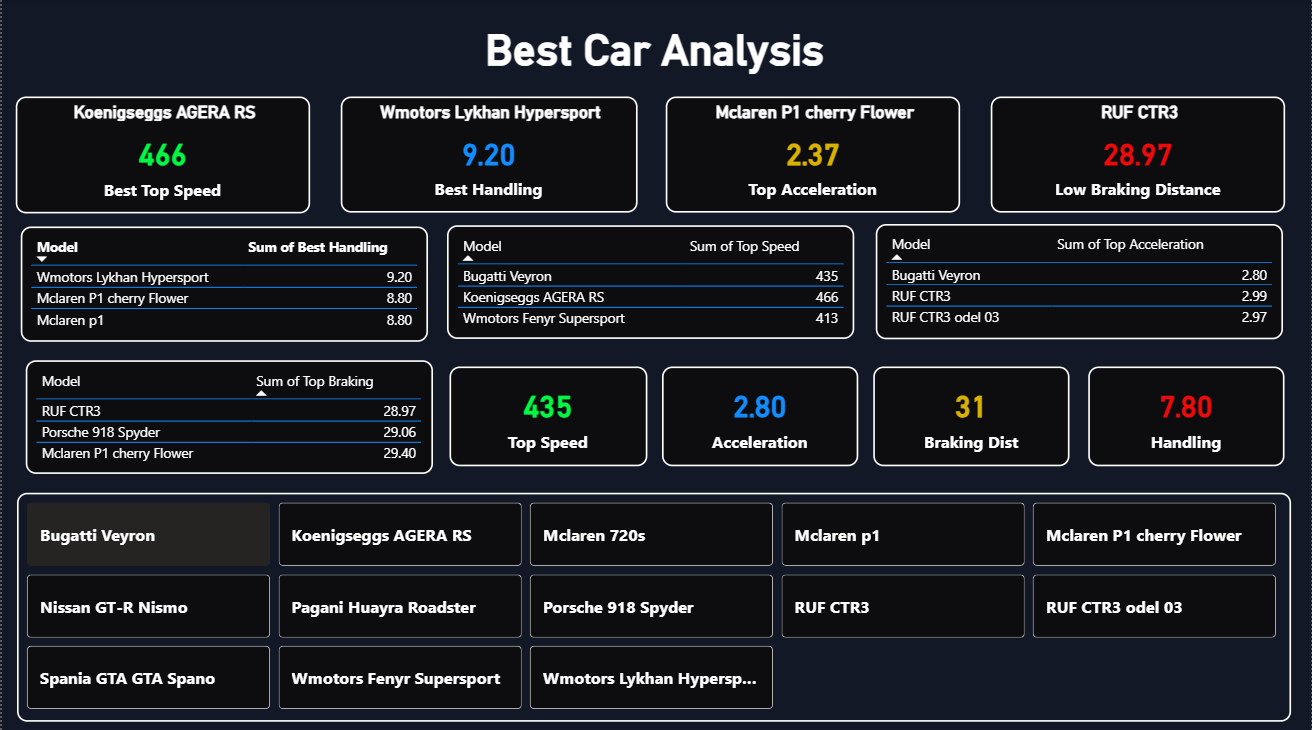

The dashboard page shown, as its layout file describes it:
{"tool":"powerbi","page":{"name":"Page 1","canvas":[1280,720],"ordinal":0},"visuals":[{"type":"card","fields":{"Values":["Dax.Title"]},"box":[22,13.8,1233.5,64.6],"z":0},{"type":"group","id":"g1","title":"Group 1","box":[13.6,95.4,1241.8,112.8],"z":0,"group":"g2"},{"type":"card","title":"Koenigseggs AGERA RS","fields":{"Values":["Dax.Top Speed"]},"box":[13.6,95.4,287.9,114.1],"z":0,"group":"g1"},{"type":"group","id":"g2","title":"Group 2","box":[13.6,95.4,1241.8,368.8],"z":1000},{"type":"card","title":"Mclaren P1 cherry Flower","fields":{"Values":["Dax.Top Acceleration"]},"box":[649.7,95.8,288.4,113.4],"z":1000,"group":"g1"},{"type":"tableEx","fields":{"Values":["Top Handling Car List.Model","Sum(Top Handling Car List.Best Handling)"]},"box":[19,222.1,398.2,112.5],"z":1000,"group":"g3"},{"type":"card","title":"RUF CTR3","fields":{"Values":["Dax.Low Braking Speed"]},"box":[967.5,95.8,288.4,113.4],"z":2000,"group":"g1"},{"type":"tableEx","fields":{"Values":["Top Speed Car List.Model","Sum(Top Speed Car List.Top Speed)"]},"box":[435.8,220.9,398.2,111.3],"z":2000,"group":"g3"},{"type":"advancedSlicerVisual","fields":{"Values":["Model.Model"]},"box":[14.7,483,1246.1,223.8],"z":2000},{"type":"group","id":"g3","title":"Group 3","box":[19,219.7,1235.1,244.6],"z":2001,"group":"g2"},{"type":"card","fields":{"Values":["Dax.Selected Top Speed"]},"box":[437.8,359.5,193.4,97.8],"z":2001,"group":"g4"},{"type":"card","fields":{"Values":["Dax.Handling"]},"box":[1062.5,359.5,192.2,97.8],"z":2002,"group":"g4"},{"type":"card","fields":{"Values":["Dax.Acceleration"]},"box":[645.6,359.5,192.2,97.8],"z":2003,"group":"g4"},{"type":"card","fields":{"Values":["Dax.Braking Dist"]},"box":[852.2,359.5,192.2,97.8],"z":2004,"group":"g4"},{"type":"group","id":"g4","title":"Group 4","box":[437.8,359.5,816.9,97.8],"z":2005},{"type":"card","title":"Wmotors Lykhan Hypersport","fields":{"Values":["Dax.Best Handling"]},"box":[332,95.8,290.1,113.4],"z":3000,"group":"g1"},{"type":"tableEx","fields":{"Values":["Top Acceleration Car List.Model","Sum(Top Acceleration Car List.Top Acceleration)"]},"box":[855.9,219.7,398.2,112.5],"z":3000,"group":"g3"},{"type":"tableEx","fields":{"Values":["Best Braking Car List.Model","Sum(Best Braking Car List.Top Braking)"]},"box":[24,353,398.2,111.3],"z":4000,"group":"g3"}]}

Visuals, with their boxes in screenshot pixels (x1, y1, x2, y2), scaled from the page's 1280x720 canvas onto the 1312x730 screenshot:
card - Dax.Title: Rect(23, 14, 1287, 79)
"Group 1" group: Rect(14, 97, 1287, 211)
"Koenigseggs AGERA RS" card: Rect(14, 97, 309, 212)
"Group 2" group: Rect(14, 97, 1287, 471)
"Mclaren P1 cherry Flower" card: Rect(666, 97, 962, 212)
tableEx - Top Handling Car List.Model x Sum(Top Handling Car List.Best Handling): Rect(19, 225, 428, 339)
"RUF CTR3" card: Rect(992, 97, 1287, 212)
tableEx - Top Speed Car List.Model x Sum(Top Speed Car List.Top Speed): Rect(447, 224, 855, 337)
advancedSlicerVisual - Model.Model: Rect(15, 490, 1292, 717)
"Group 3" group: Rect(19, 223, 1285, 471)
card - Dax.Selected Top Speed: Rect(449, 364, 647, 464)
card - Dax.Handling: Rect(1089, 364, 1286, 464)
card - Dax.Acceleration: Rect(662, 364, 859, 464)
card - Dax.Braking Dist: Rect(874, 364, 1071, 464)
"Group 4" group: Rect(449, 364, 1286, 464)
"Wmotors Lykhan Hypersport" card: Rect(340, 97, 638, 212)
tableEx - Top Acceleration Car List.Model x Sum(Top Acceleration Car List.Top Acceleration): Rect(877, 223, 1285, 337)
tableEx - Best Braking Car List.Model x Sum(Best Braking Car List.Top Braking): Rect(25, 358, 433, 471)
